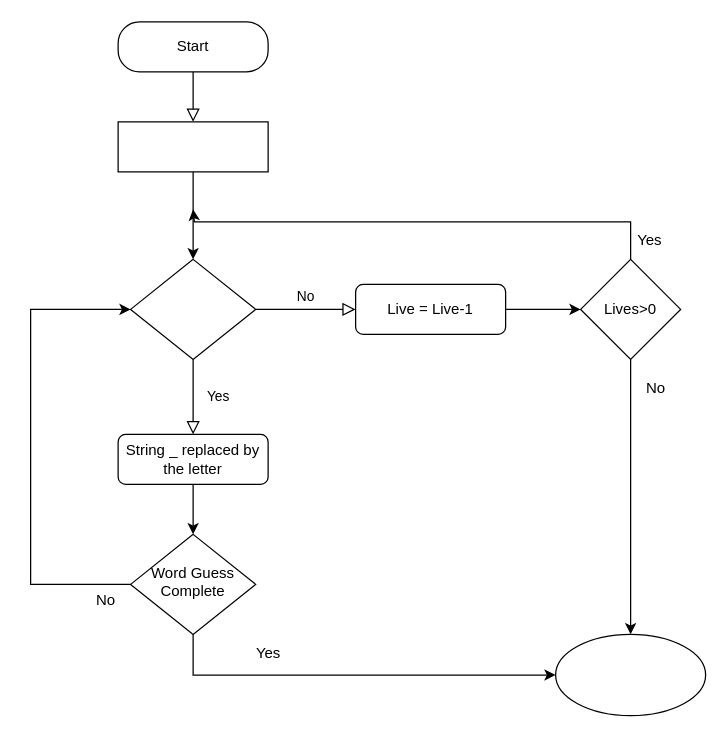
Some shapes in this 728 by 738 pixel diagram are drawn without their labels. The shapes that lost their labels are listed below. From the top down, each one's centre as x and y in pixels, then its label:
(x=192, y=146): Random Word Generated
(x=192, y=308): Enter And Match
(x=630, y=674): Exit
